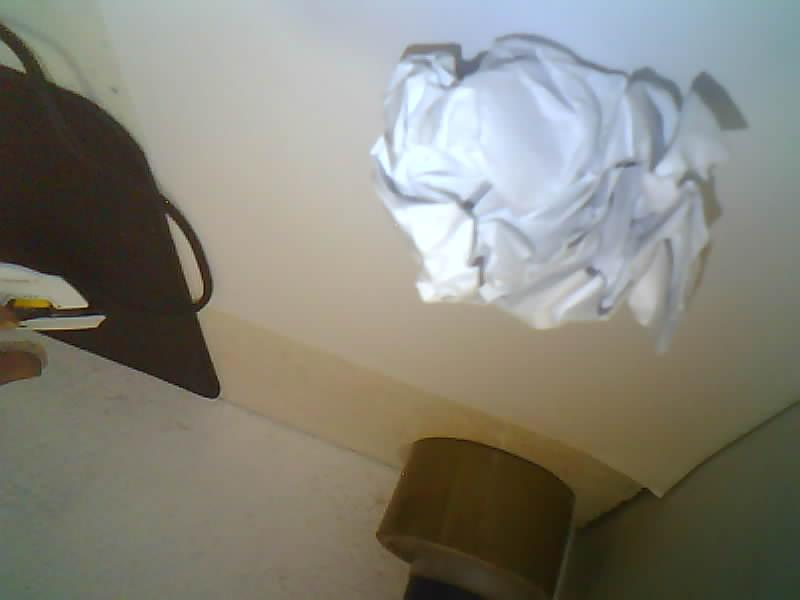biodegradable: (372, 37, 726, 347)
